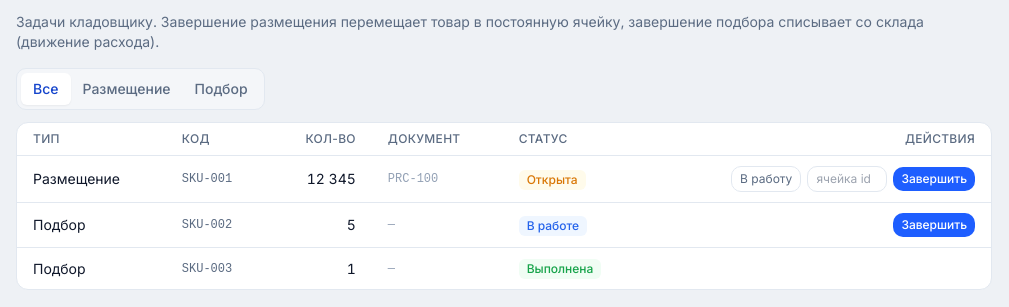
WmsTasks › вкладки фильтруют по типу задачи: «Подбор» скрывает putaway-строки
Click the button "Подбор" at (221,89), box [183,73,260,105]
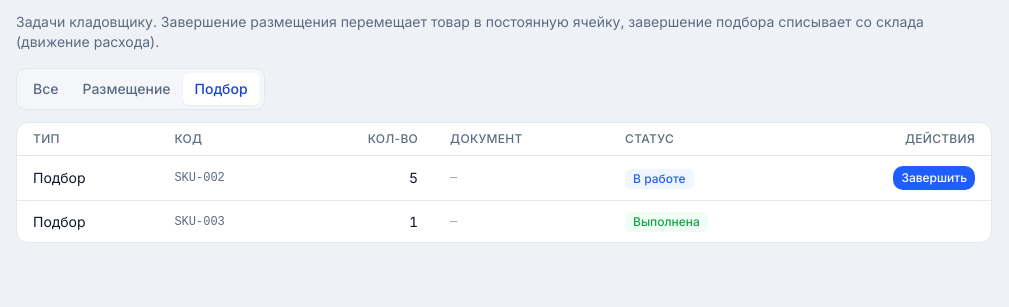
Expected: the text "SKU-002" is shown, [158,156,296,200]
Now the text "SKU-001" is gone
